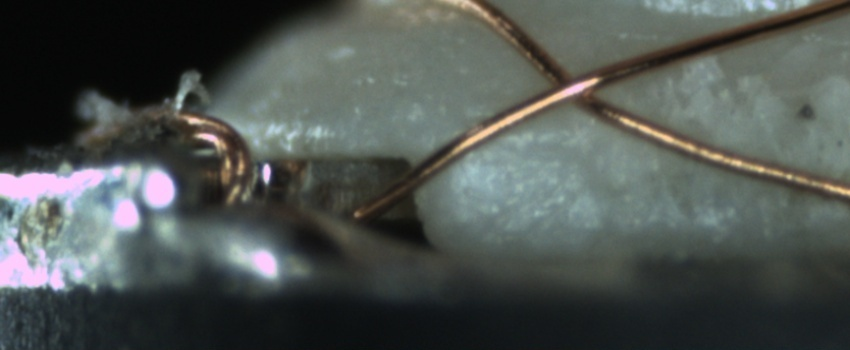CL: (526, 51, 625, 120)
DL: (463, 107, 575, 164)
TE: (118, 105, 256, 205)
